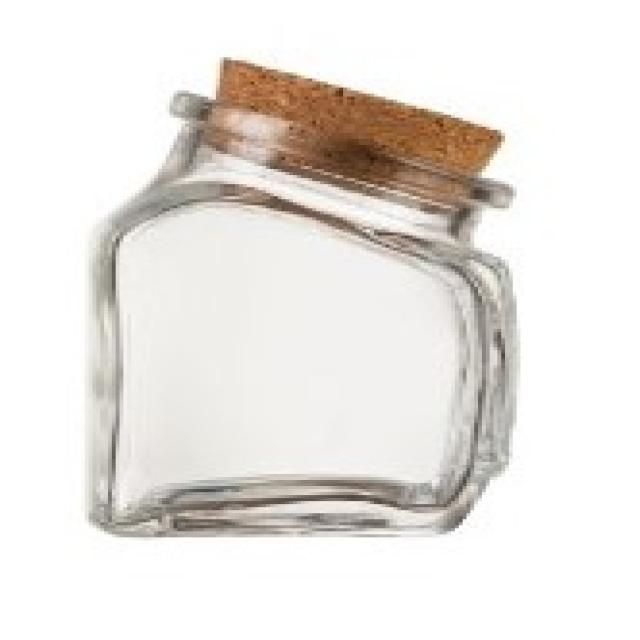electronic: (83, 57, 521, 545)
